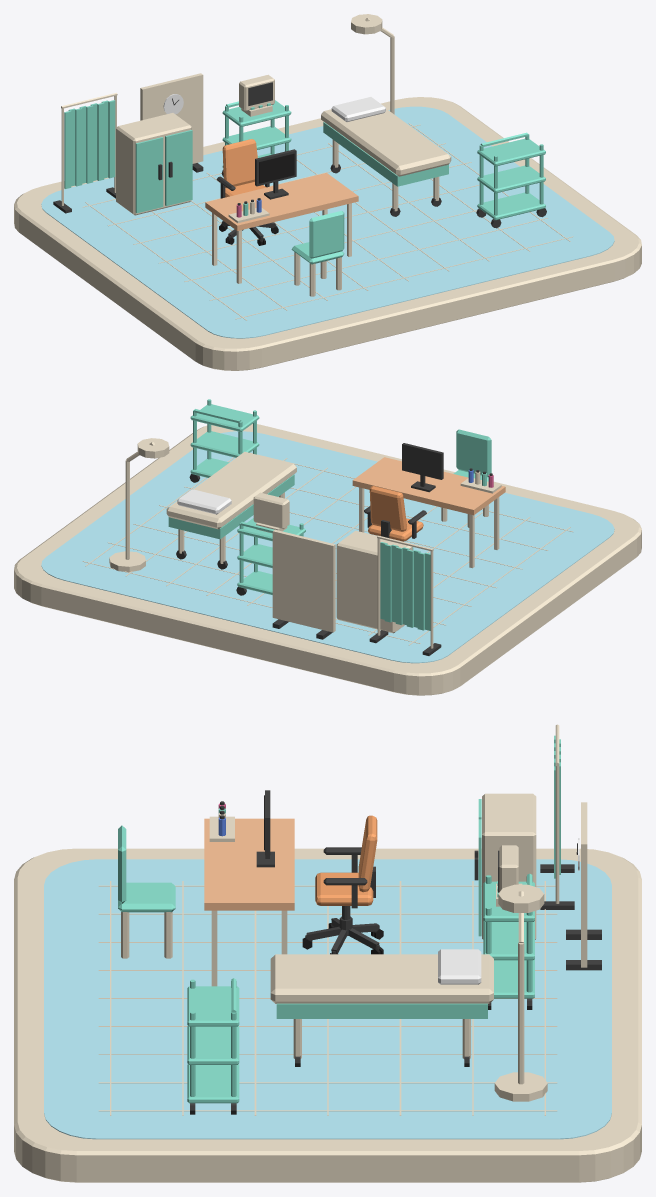
3 views of the same model, one above another, from view 1: azimuth 30°, elevation 25°; view 2: azimuth 150°, elevation 25°; view 3: azimuth 270°, elevation 25° (orthographic). The views are drawn at different scales.
Visible parts, largest first — view 1: COM-02 Floor Surface, COM-01 Rounded Base Direct, Top, Mattress, Equipment case, Panel, COM-04_Chair_blender_direct, Door, Door.001, Backrest, Frame, Tray.002 (+13 smaller); view 2: COM-02 Floor Surface, COM-01 Rounded Base Direct, Panel, Top, Mattress, Equipment case, COM-04_Chair_blender_direct, Frame, Backrest, Housing, Tray.001, Tray.002 (+14 smaller); view 3: COM-02 Floor Surface, COM-01 Rounded Base Direct, Mattress, Top, COM-04_Chair_blender_direct, Equipment case, Base, Tray.002, Tray, Tray.001, Seat, Pillow (+15 smaller).
Boxes of the visible parts, x1,y1,x2,y2 form: COM-02 Floor Surface: [41, 106, 614, 338]; COM-01 Rounded Base Direct: [14, 97, 641, 370]; Top: [205, 173, 358, 283]; Mattress: [321, 108, 451, 176]; Equipment case: [116, 113, 191, 215]; Panel: [140, 73, 203, 163]; COM-04_Chair_blender_direct: [216, 139, 278, 245]; Door: [135, 137, 163, 213]; Door.001: [165, 130, 192, 206]; Backrest: [309, 210, 344, 258]; Frame: [255, 149, 296, 199]; Tray.002: [477, 138, 545, 166]; COM-02 Floor Surface: [41, 431, 614, 663]; COM-01 Rounded Base Direct: [14, 424, 641, 695]; Panel: [272, 529, 335, 632]; Top: [352, 457, 505, 568]; Mattress: [166, 451, 296, 529]; Equipment case: [336, 530, 412, 633]; COM-04_Chair_blender_direct: [364, 486, 426, 541]; Frame: [402, 443, 443, 492]; Backrest: [456, 429, 491, 476]; Housing: [253, 492, 289, 528]; Tray.001: [190, 431, 259, 457]; Tray.002: [190, 404, 259, 431]; COM-02 Floor Surface: [44, 859, 611, 1139]; COM-01 Rounded Base Direct: [14, 848, 641, 1182]; Mattress: [270, 954, 493, 1003]; Top: [204, 818, 294, 986]; COM-04_Chair_blender_direct: [302, 815, 383, 954]; Equipment case: [482, 793, 536, 939]; Base: [276, 1008, 487, 1018]; Tray.002: [187, 986, 239, 1026]; Tray: [187, 1064, 239, 1103]; Tray.001: [187, 1026, 239, 1064]; Seat: [118, 882, 175, 912]; Pillow: [438, 949, 481, 984].
Bounding box in the file's own units: 6 × 1.96 × 5.2.
1 material, 1 textured.
